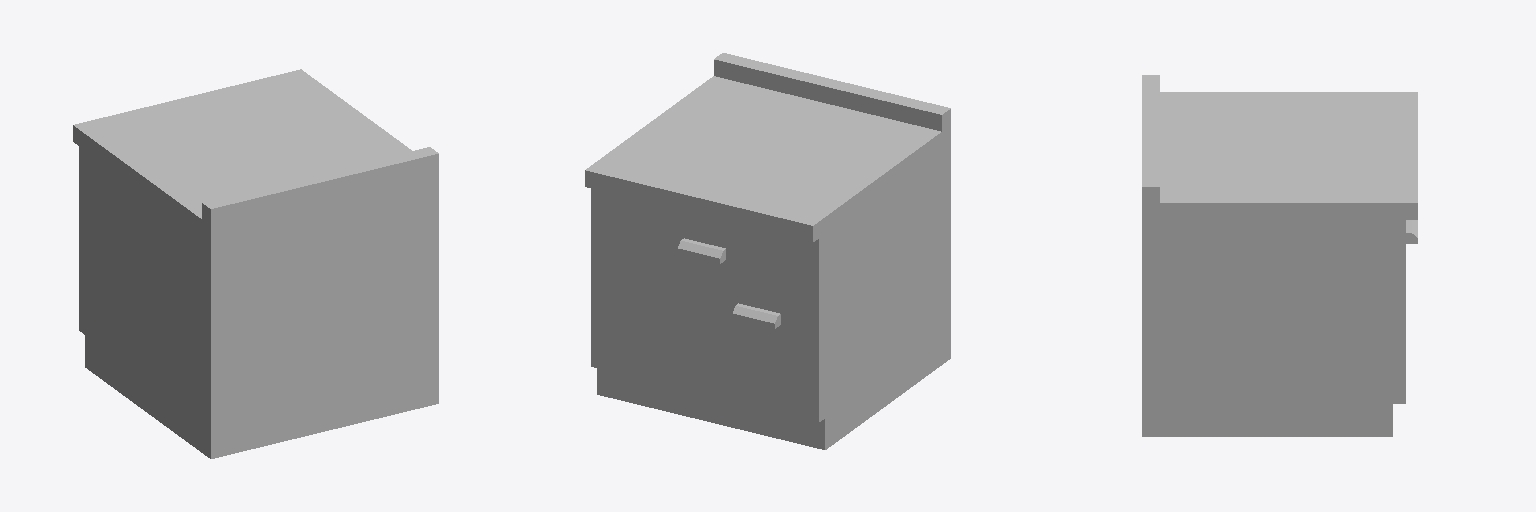
Rendered from kitchenCabinetDrawer 1.obj.
3 renders of one model, left to right at view 1: azimuth 30°, elevation 25°; view 2: azimuth 150°, elevation 25°; view 3: azimuth 270°, elevation 25°, orthographic.
Visible parts, largest first — view 1: kitchenCabinetDrawer 1; view 2: kitchenCabinetDrawer 1, door 6, drawer 4; view 3: kitchenCabinetDrawer 1.
Part boxes in pixels (x1,y1,x2,y2): kitchenCabinetDrawer 1: (73,69,438,458); kitchenCabinetDrawer 1: (585,53,950,449); door 6: (605,248,804,403); drawer 4: (605,201,804,296); kitchenCabinetDrawer 1: (1142,75,1417,436).
Bounding box in the file's own units: 4.3 × 4.5 × 4.5.